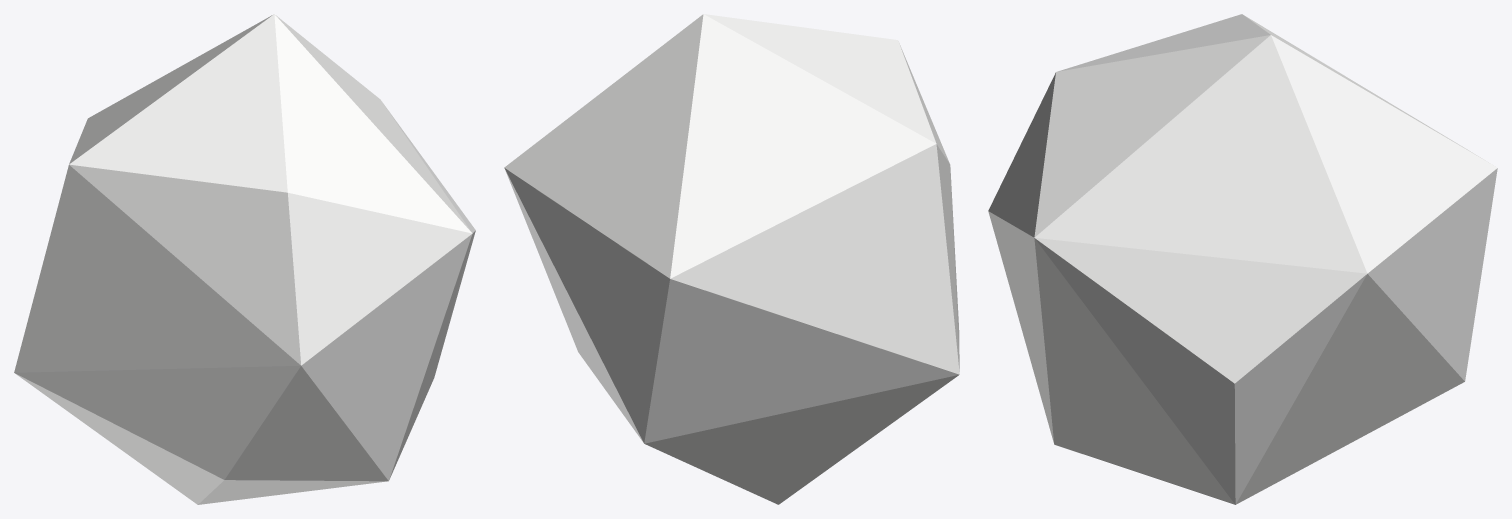
File: Cloud_v13.fbx
The picture shows the model from 3 angles, left to right: view 1: azimuth 30°, elevation 25°; view 2: azimuth 150°, elevation 25°; view 3: azimuth 270°, elevation 25°; orthographic projection. The views are drawn at different scales.
Visible parts, largest first — view 1: Cloud_v13; view 2: Cloud_v13; view 3: Cloud_v13.
Boxes of the visible parts, x1=… form: Cloud_v13: x1=14, y1=14, x2=475, y2=504; Cloud_v13: x1=504, y1=14, x2=959, y2=504; Cloud_v13: x1=988, y1=14, x2=1497, y2=504.
Bounding box in the file's own units: 13.72 × 14.01 × 13.27.
1 material, 1 textured.
